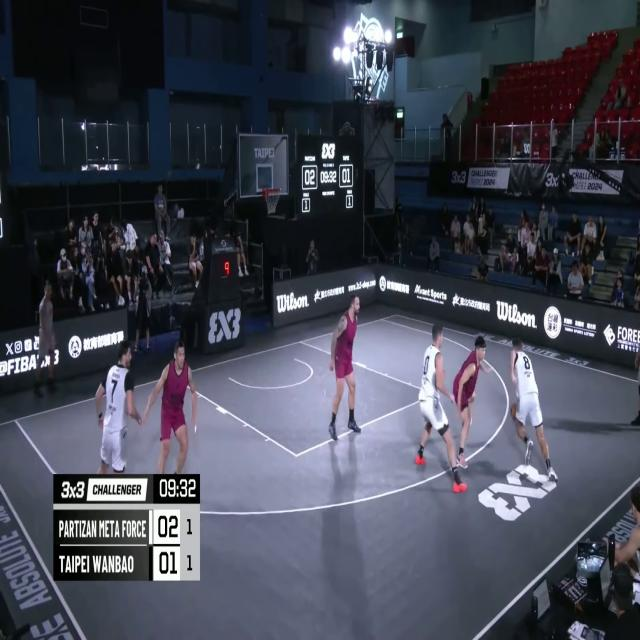ball: (509, 402, 522, 427)
hoop: (263, 183, 281, 216)
player: (416, 324, 469, 492), (508, 333, 559, 486), (144, 340, 196, 476), (94, 341, 143, 475), (452, 337, 494, 472), (330, 297, 362, 440)
